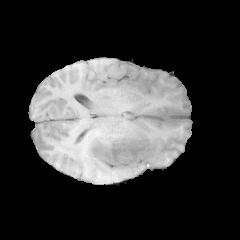glioma: (68, 131, 152, 167)
